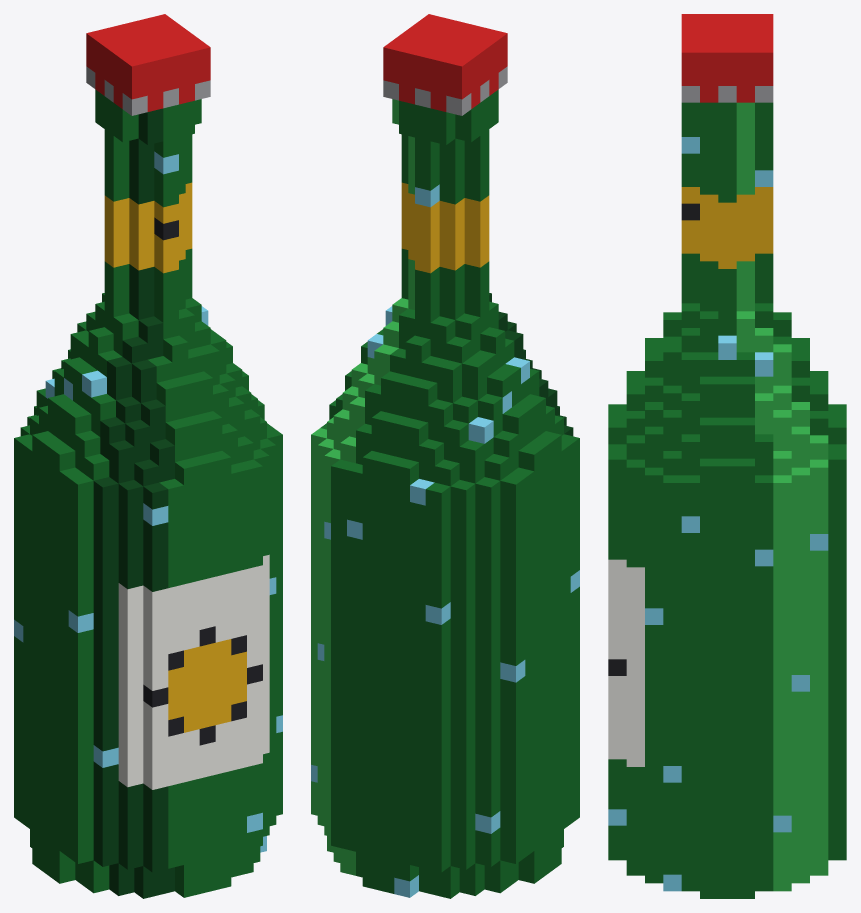
Rendered from cerveza.obj.
3 views of the same model, side by side, from view 1: azimuth 30°, elevation 25°; view 2: azimuth 150°, elevation 25°; view 3: azimuth 270°, elevation 25° (orthographic).
Size of the model in its own units: 1.3 by 4.9 by 1.3.
Materials: 1 (1 with a texture image).
